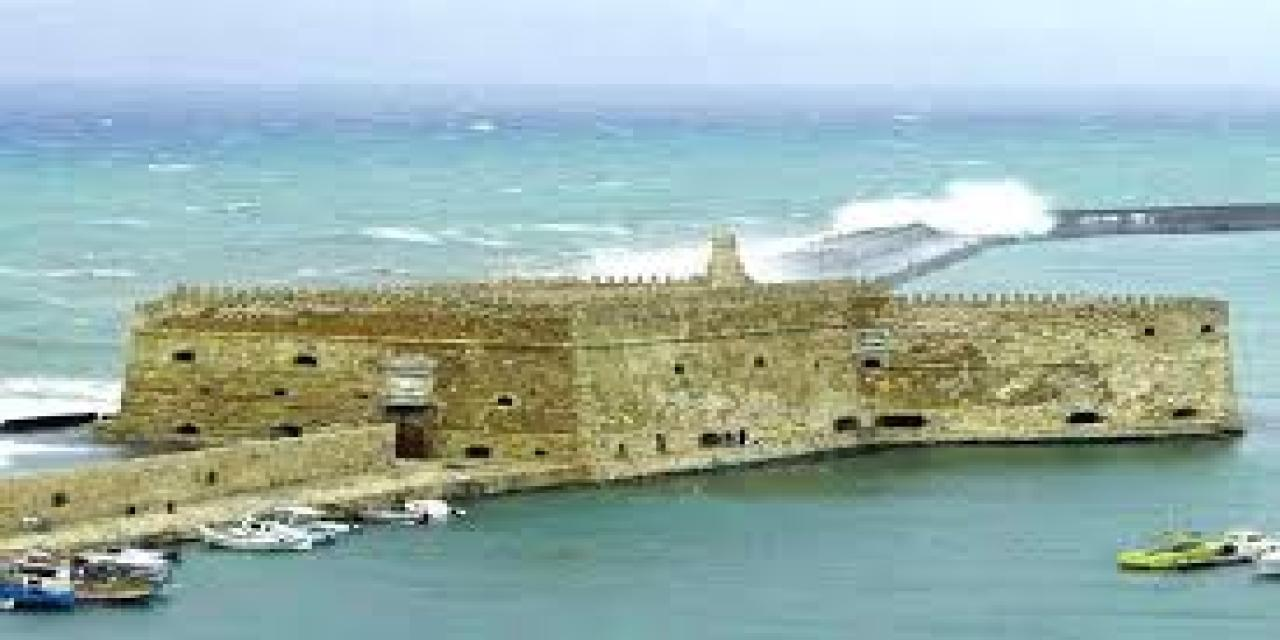Kules: (105, 220, 1242, 445)
